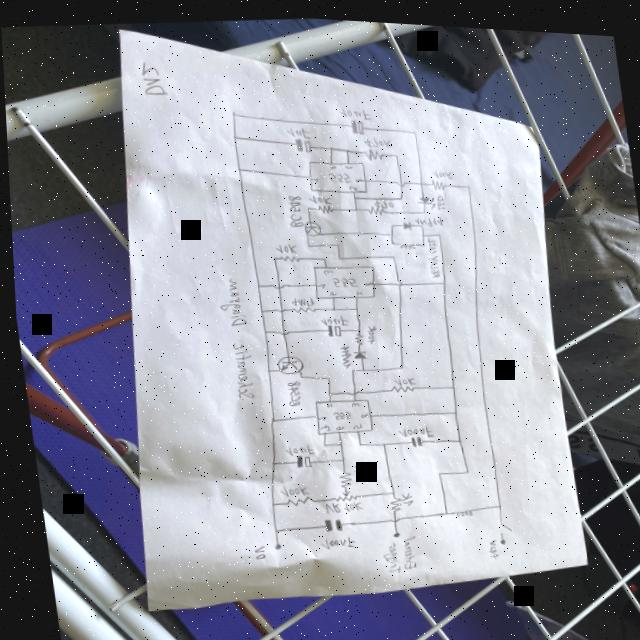capacitor: (317, 512, 339, 531), (290, 133, 312, 152), (346, 113, 365, 133), (288, 450, 306, 466), (321, 319, 339, 335), (404, 430, 418, 444)
crossover: (268, 279, 282, 287), (342, 385, 356, 392), (274, 326, 286, 333), (382, 512, 394, 519), (391, 274, 400, 283), (393, 175, 404, 182), (272, 303, 282, 310)
diode: (412, 190, 433, 206), (347, 346, 364, 355), (398, 216, 412, 226)
inductor: (447, 502, 470, 512), (395, 237, 416, 246)
junction: (265, 456, 272, 464), (264, 497, 271, 505), (266, 524, 273, 531), (258, 325, 265, 332), (229, 131, 236, 138), (326, 141, 333, 148), (254, 305, 261, 312), (315, 437, 322, 444), (436, 505, 444, 511), (490, 497, 496, 504), (264, 415, 271, 421), (251, 280, 258, 286), (409, 124, 415, 131), (390, 148, 397, 154), (435, 276, 443, 281), (451, 432, 457, 438), (445, 379, 451, 385), (448, 404, 454, 410), (234, 164, 240, 170), (229, 108, 235, 114), (463, 178, 469, 184), (332, 238, 338, 244), (342, 144, 348, 150), (394, 359, 400, 365), (347, 364, 353, 370), (322, 386, 328, 392), (395, 190, 401, 196), (321, 372, 327, 377), (430, 466, 436, 471), (459, 464, 465, 469), (375, 438, 381, 443), (318, 253, 324, 258), (415, 218, 421, 223), (350, 302, 356, 307), (261, 365, 266, 370), (352, 438, 357, 442), (387, 251, 392, 255), (386, 228, 391, 232), (417, 228, 422, 232), (387, 236, 392, 240), (416, 177, 421, 181), (351, 203, 355, 208), (332, 438, 337, 442), (356, 363, 360, 368), (327, 303, 332, 307), (334, 455, 340, 458), (334, 253, 340, 256), (418, 238, 422, 242), (349, 192, 353, 196), (304, 240, 308, 244), (303, 202, 307, 206), (295, 372, 299, 376), (385, 487, 389, 491), (269, 253, 273, 257), (353, 324, 357, 328), (434, 228, 438, 231), (388, 219, 392, 222), (419, 206, 423, 209)
resistor: (359, 141, 385, 158), (279, 491, 309, 504), (326, 484, 351, 499), (382, 491, 399, 509), (384, 378, 411, 389), (331, 467, 347, 484), (428, 174, 446, 187), (313, 199, 332, 211), (364, 200, 383, 212), (288, 301, 313, 310), (276, 251, 298, 260), (349, 328, 361, 342)
switch: (490, 515, 506, 530)
terminal: (266, 539, 276, 548), (491, 533, 500, 541), (385, 527, 394, 533)
text: (214, 271, 253, 401), (392, 530, 414, 568), (282, 189, 303, 225), (374, 536, 396, 570), (311, 531, 353, 548), (421, 231, 438, 273), (336, 99, 371, 119), (391, 419, 429, 436), (273, 479, 304, 496), (280, 376, 298, 404), (360, 131, 392, 146), (410, 209, 442, 224), (326, 271, 356, 286), (282, 121, 310, 137), (333, 339, 348, 365), (316, 310, 346, 323), (324, 167, 350, 182), (279, 441, 308, 454), (359, 319, 375, 341), (305, 189, 330, 203), (428, 162, 451, 177), (285, 292, 313, 304), (479, 533, 494, 555), (271, 239, 295, 252), (336, 496, 359, 509), (317, 497, 336, 512), (370, 192, 391, 205), (326, 405, 347, 418), (347, 459, 362, 477), (388, 371, 411, 382), (246, 540, 260, 558), (394, 487, 407, 503), (432, 189, 444, 205), (313, 419, 325, 428), (347, 418, 357, 426), (312, 411, 322, 418), (319, 265, 329, 272), (360, 276, 370, 283), (351, 173, 362, 179), (354, 408, 365, 414), (313, 279, 322, 286), (329, 421, 339, 427), (326, 159, 334, 166), (346, 397, 354, 404), (321, 397, 328, 405), (352, 284, 359, 292), (346, 181, 355, 187), (308, 173, 316, 179), (342, 160, 350, 166), (325, 287, 333, 292)
transistor: (271, 350, 302, 373), (299, 216, 319, 234)
